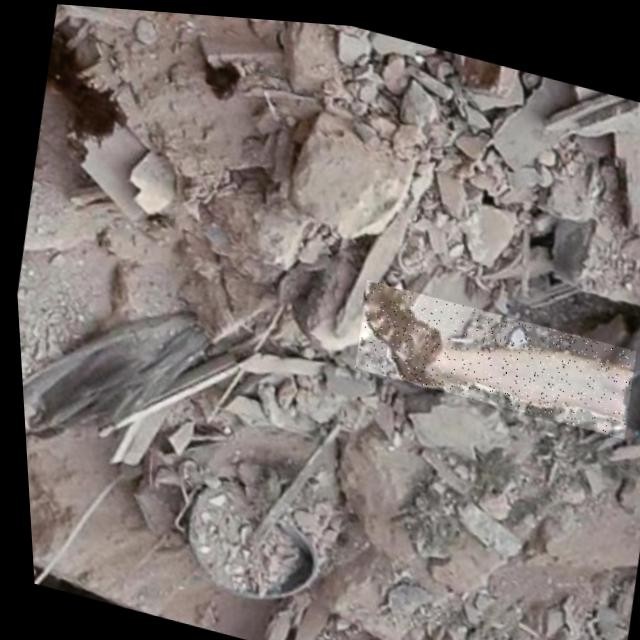Person in Rubble: (346, 273, 635, 431)
